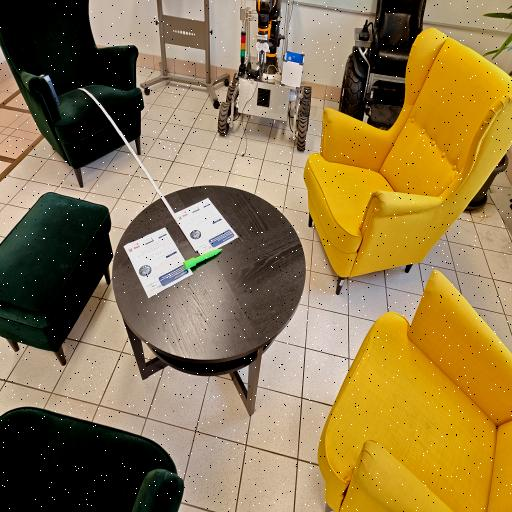Probe-Detection: (183, 248, 222, 270)
